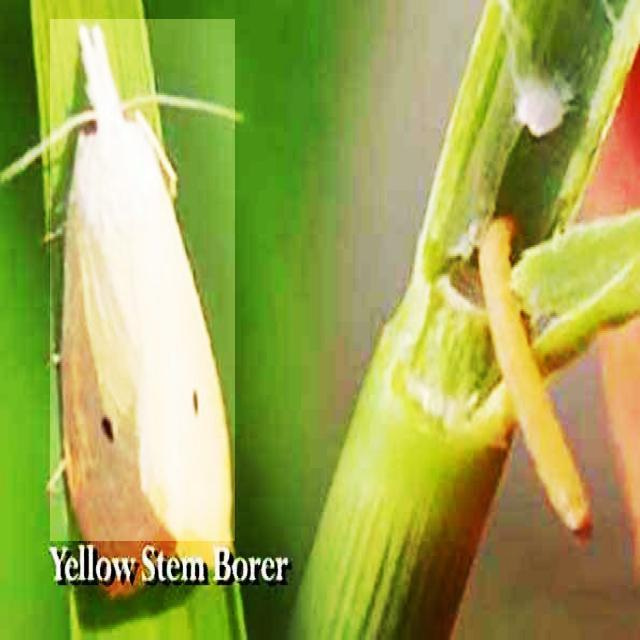stem-borer: (50, 19, 235, 541)
